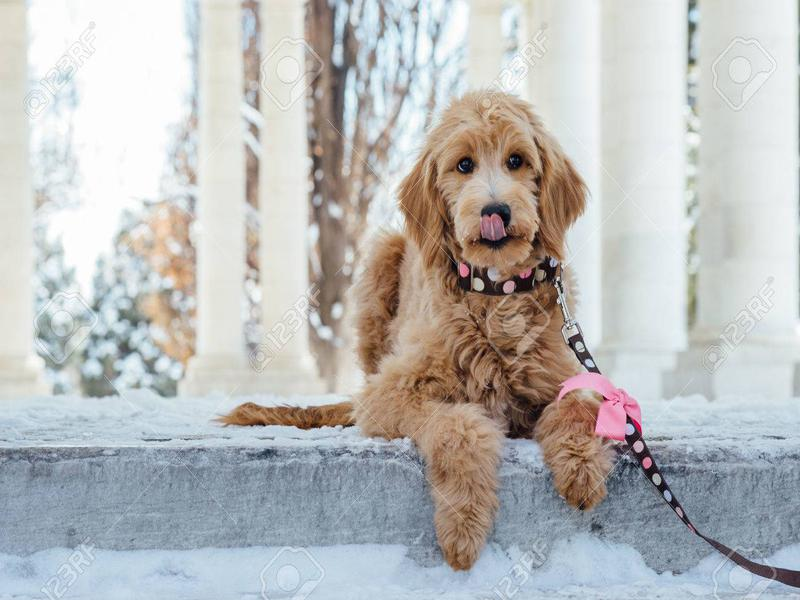dog_down: (214, 85, 616, 580)
